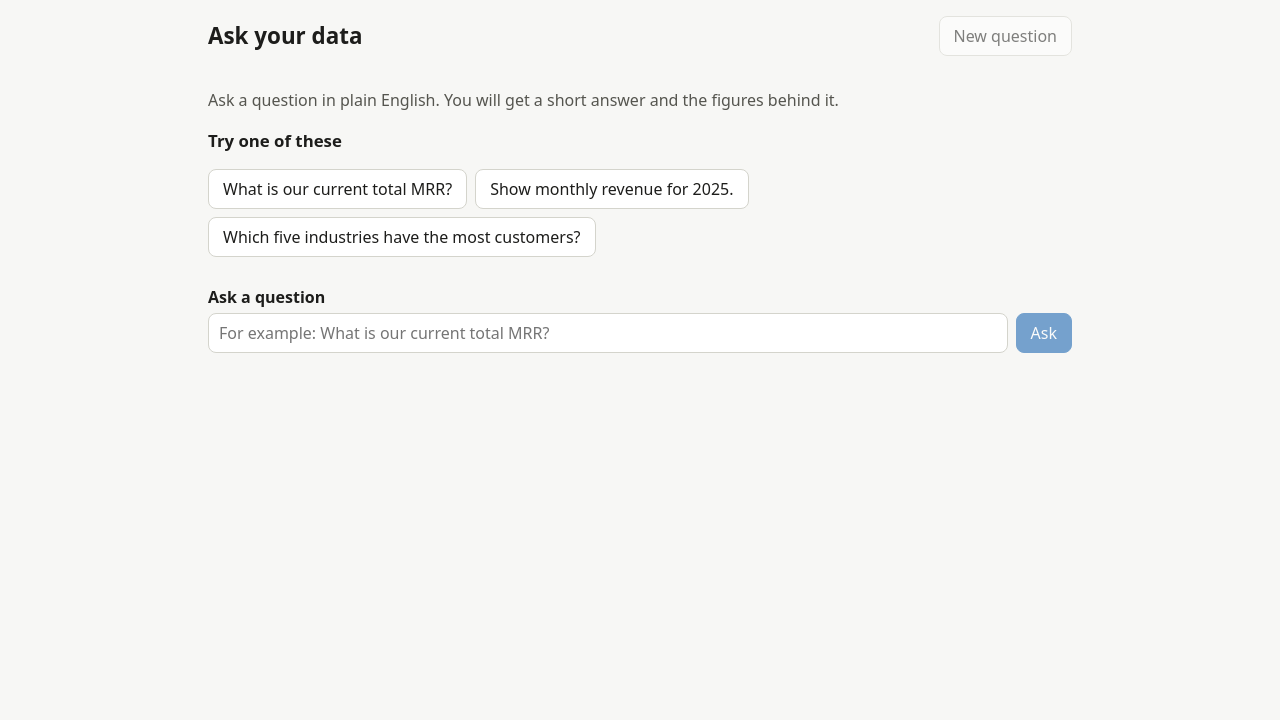
Test: accessibility (axe) › a clarifying question, a refusal and a loading state have no violations
Type "Revenue last month?" into the field labelled "Ask a question".
click(608, 333); type("Revenue last month?")  # box [208,313,1008,353]
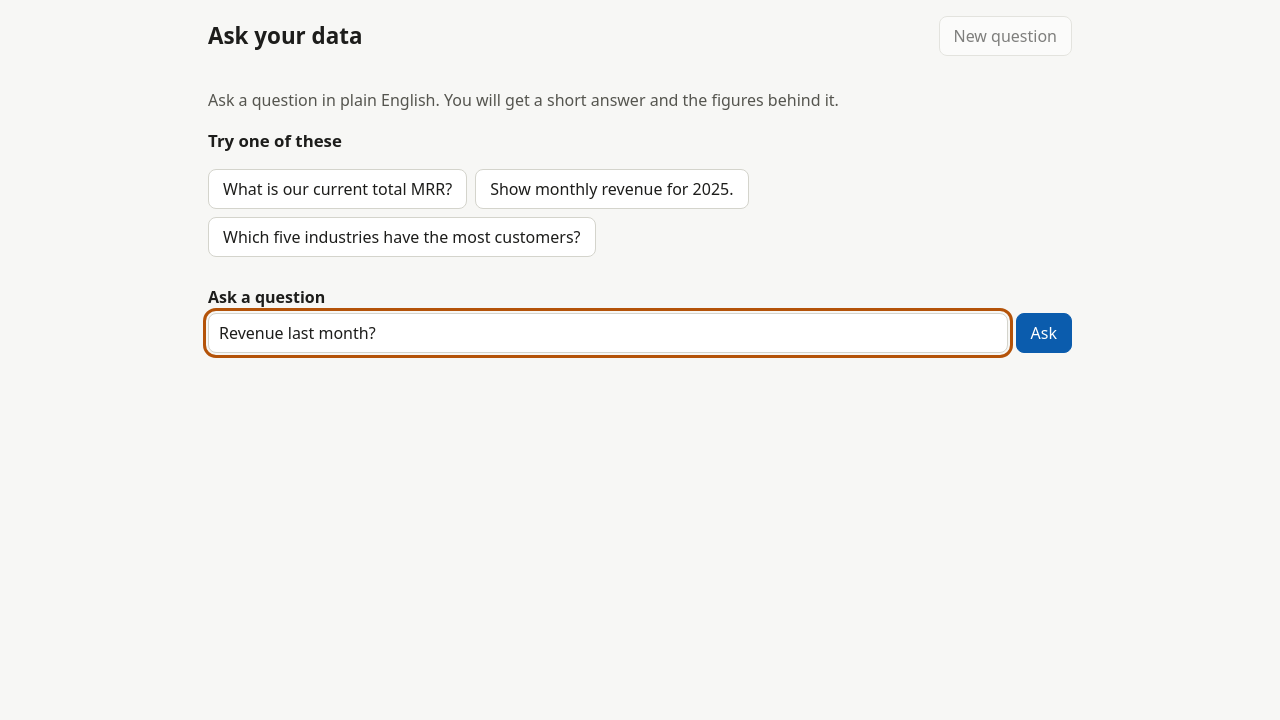
Click the button "Ask".
click(1044, 333)  # box [1016,313,1072,353]
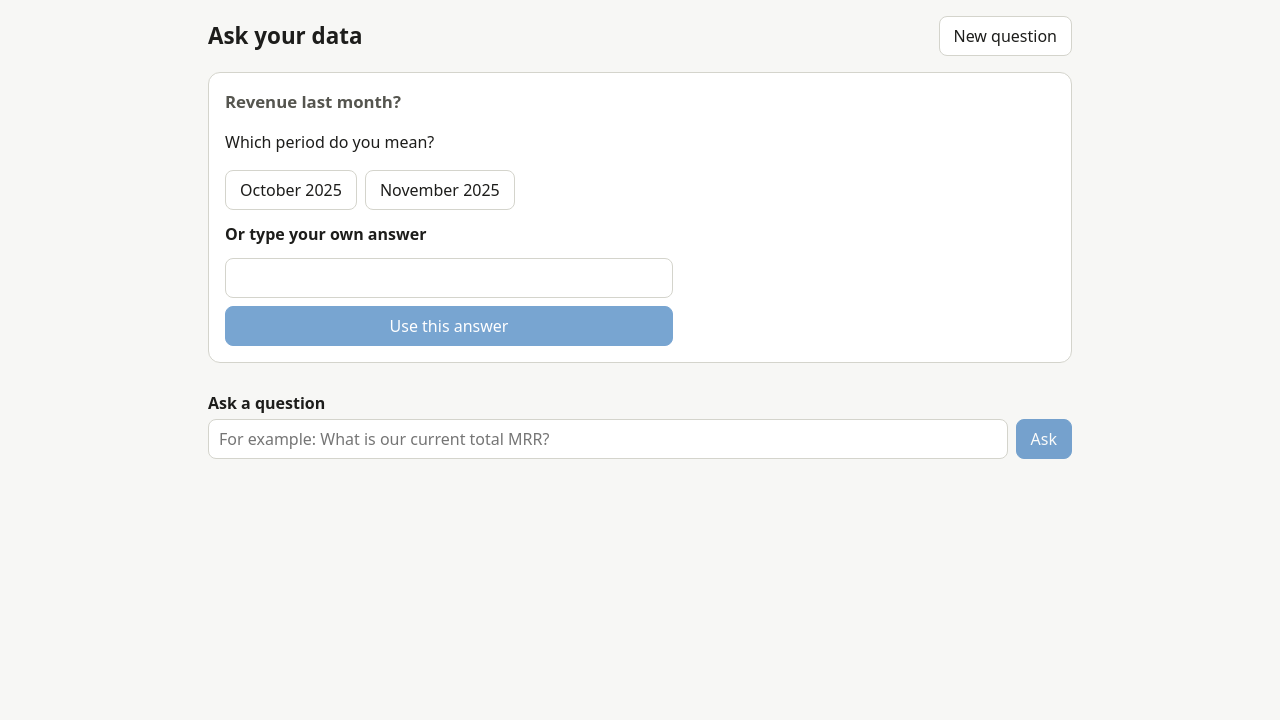
Expected: the text "Which period do you mean?" is shown, [225,131,434,153]
Type "Mark invoices paid" into the field labelled "Ask a question".
click(608, 439); type("Mark invoices paid")  # box [208,419,1008,459]
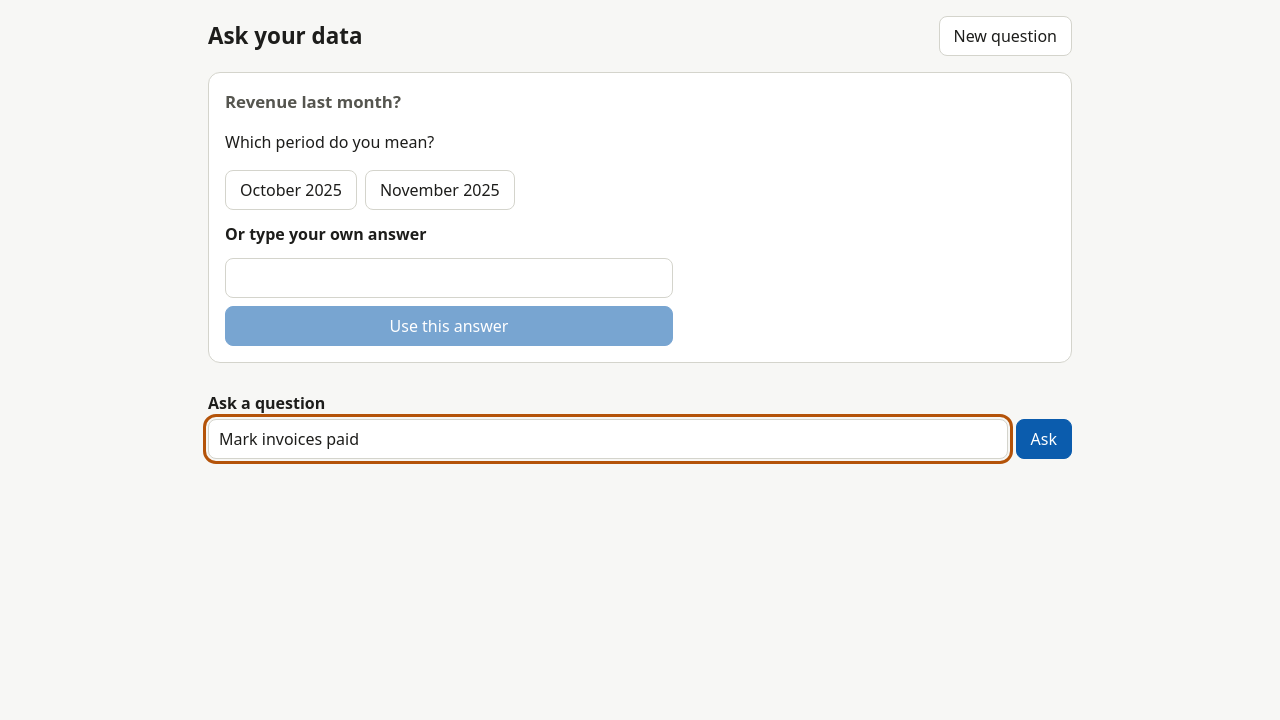
Click the button "Ask".
click(1044, 439)  # box [1016,419,1072,459]
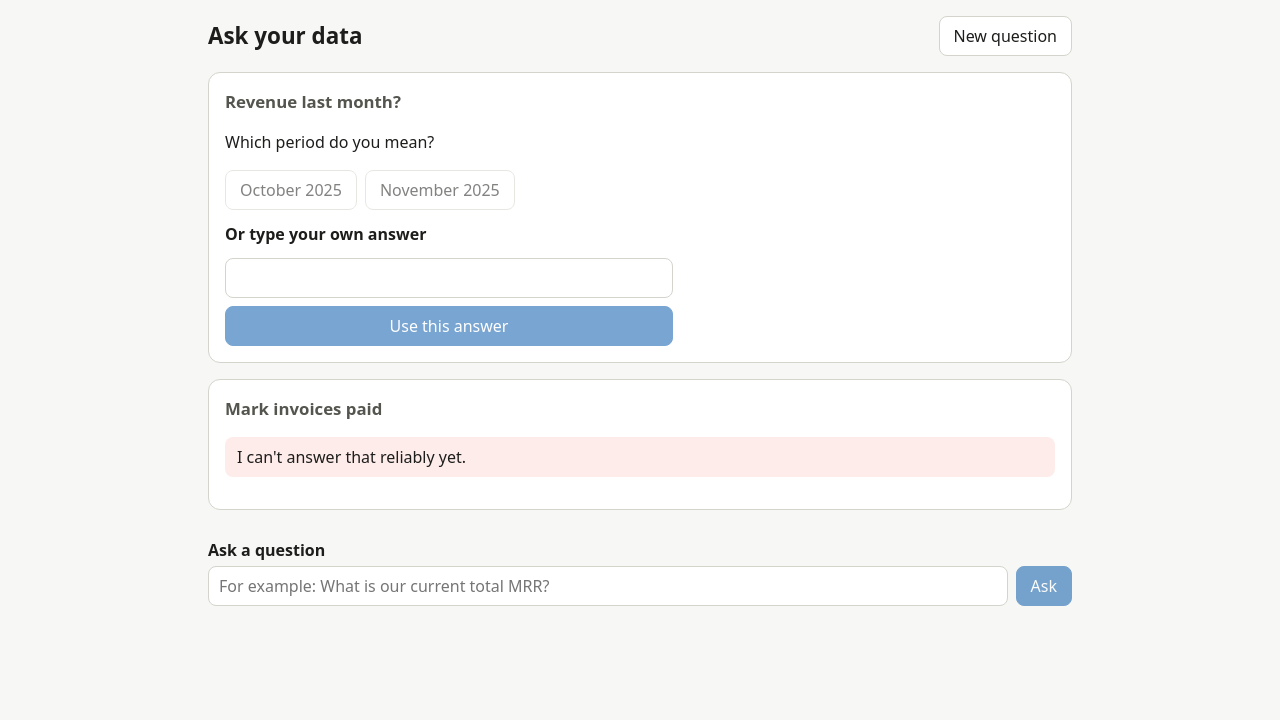
Expected: the text "I can't answer that reliably yet." is shown, [225,437,1055,477]
Type "Slow one" into the field labelled "Ask a question".
click(608, 586); type("Slow one")  # box [208,566,1008,606]
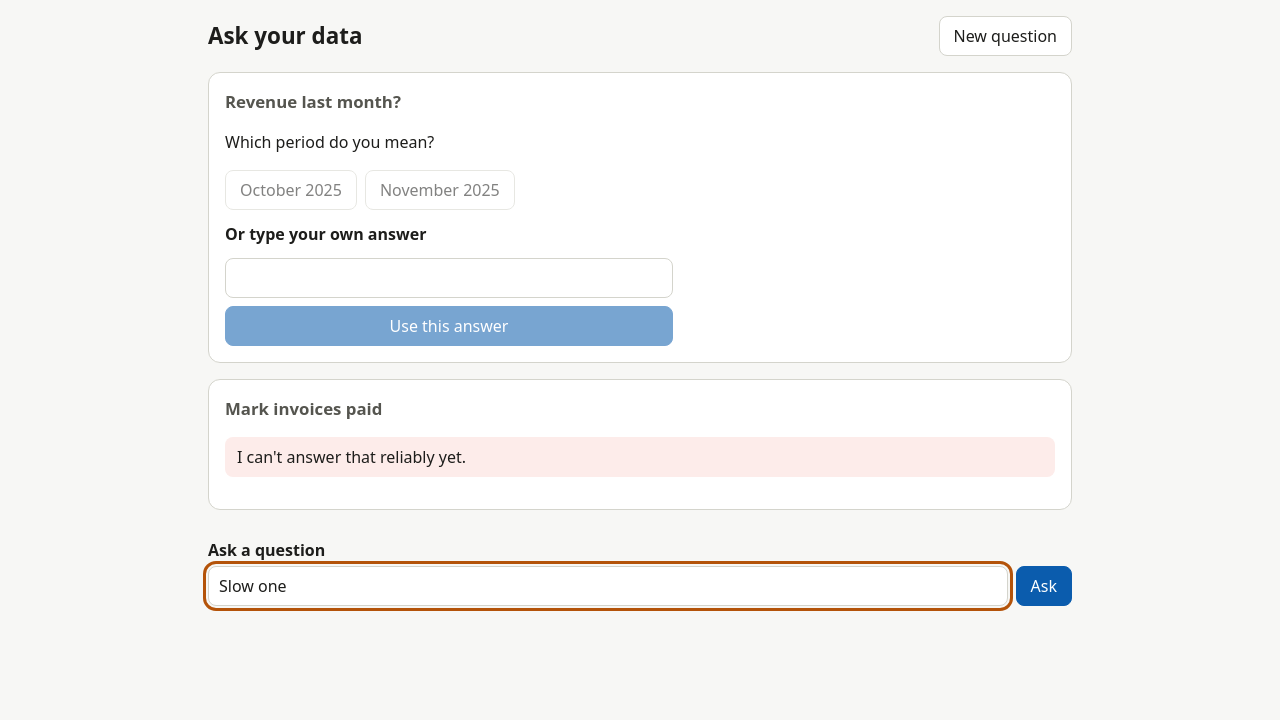
Click the button "Ask".
click(1044, 586)  # box [1016,566,1072,606]
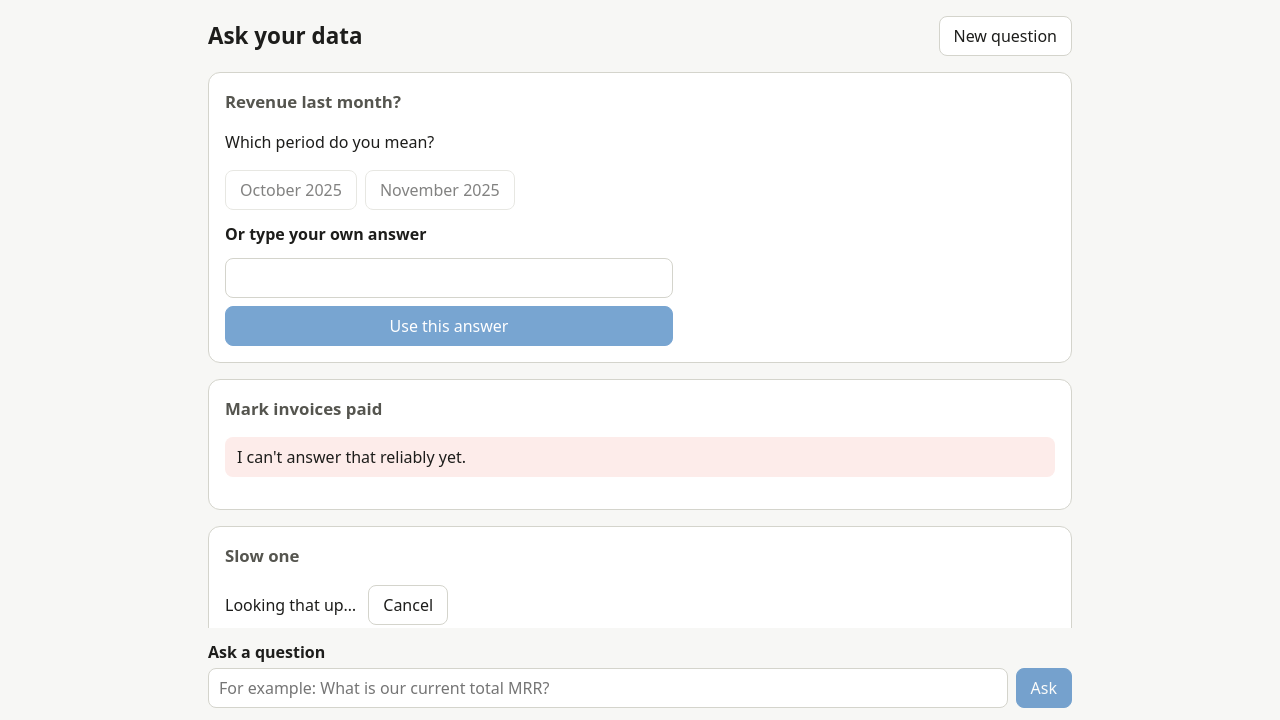
Expected: the text "Looking that up…" is shown, [225,593,356,617]
